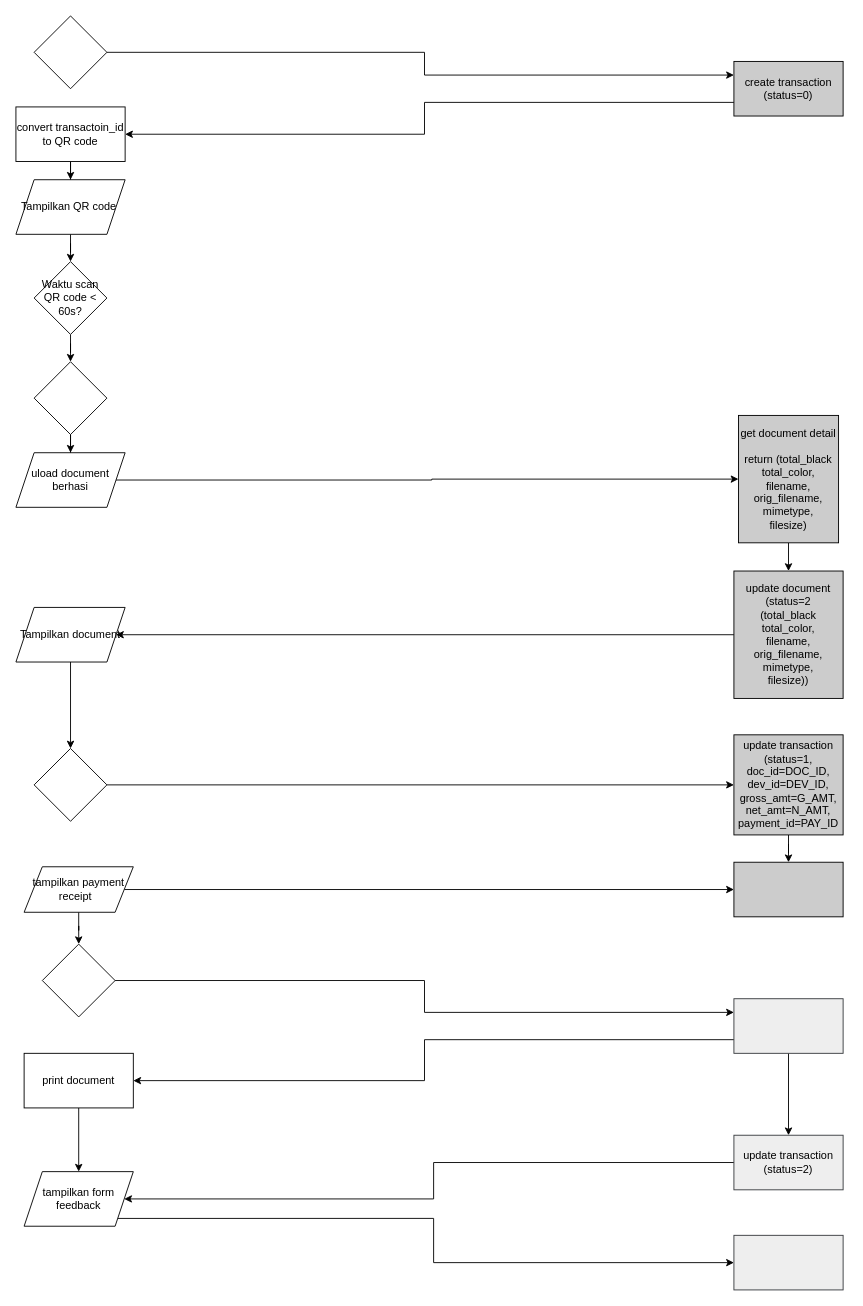
The diagram is 863 pixels wide and 1306 high, and some of its shapes have lost their labels. Each missing label, with the centre of its shape:
create feedback: point 788,1262
create payment (status=0, transaction_id=TRX_ID): point 788,889
pembayaran berhasil?: point 78,980
Tombol mulai print ditekan?: point 70,52
tombol print ditekan?: point 70,784
update transaction (status=1): point 788,1025
waktu upload file < 3 menit: point 70,398
